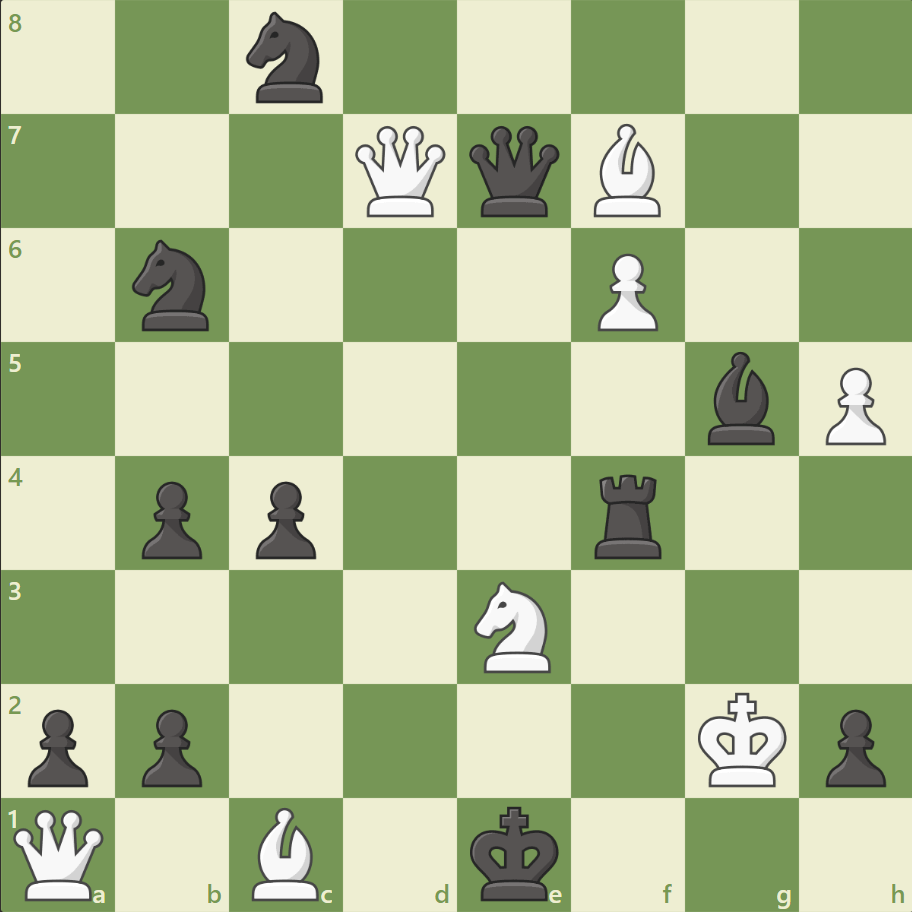B: (244, 801, 328, 904), (585, 120, 669, 222)
K: (692, 685, 792, 793)
N: (465, 575, 562, 677)
P: (588, 246, 662, 337), (815, 359, 889, 450)
Q: (351, 122, 450, 222), (10, 804, 109, 903)
b: (698, 347, 782, 449)
k: (465, 798, 565, 906)
n: (124, 234, 222, 337), (238, 7, 335, 110)
p: (133, 473, 208, 564), (247, 473, 322, 564), (20, 700, 95, 791), (133, 700, 208, 791), (815, 700, 889, 791)
q: (464, 122, 563, 222)
r: (587, 466, 670, 563)
